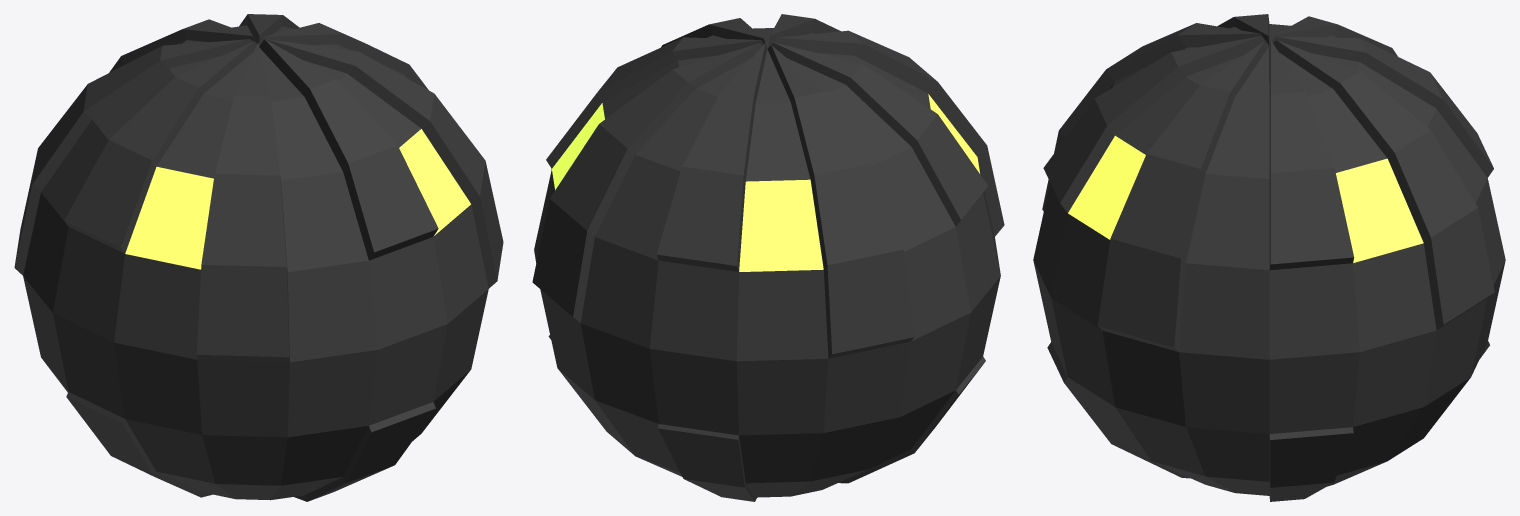
Rendered from BORG_DESTROYER_II.fbx.
3 views of the same model, side by side, from view 1: azimuth 30°, elevation 25°; view 2: azimuth 150°, elevation 25°; view 3: azimuth 270°, elevation 25° (orthographic).
Parts seen in each view (by area): view 1: Sphere; view 2: Sphere; view 3: Sphere.
Part boxes in pixels (x1,y1,x2,y2): Sphere: (14, 14, 503, 501); Sphere: (532, 14, 1004, 501); Sphere: (1033, 14, 1505, 501).
Bounding box in the file's own units: 6000 × 6000 × 6224.
